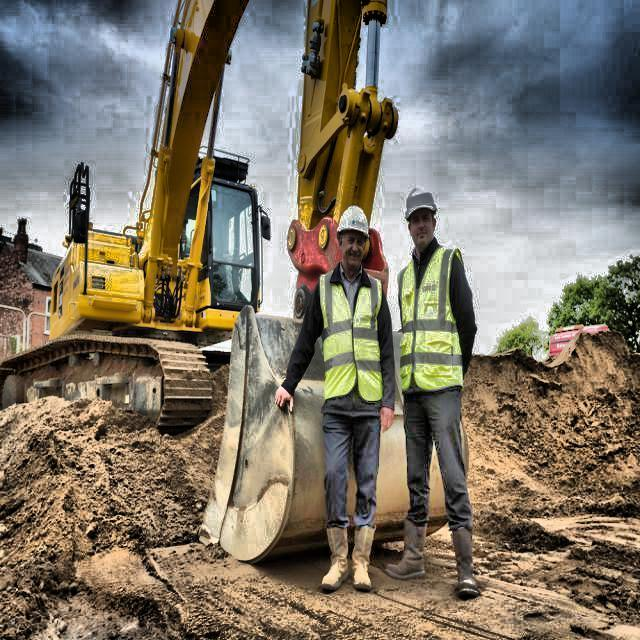safety_helmet: (328, 202, 379, 243), (397, 188, 444, 220)
safety_jacket: (393, 240, 470, 399), (307, 267, 390, 404)
